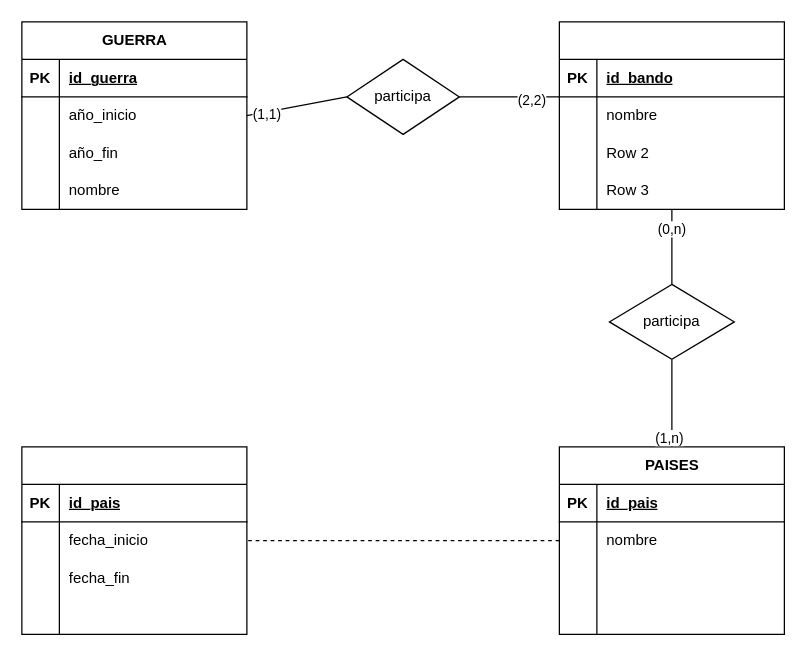
Image size: 806x656. Some labels were removed from this diagram. The box of each missing label's shape, as (x1, y1, x2, y2) in pixels:
BANDOS: (558, 21, 784, 209)
INDEPENDIENTE: (21, 446, 247, 634)
